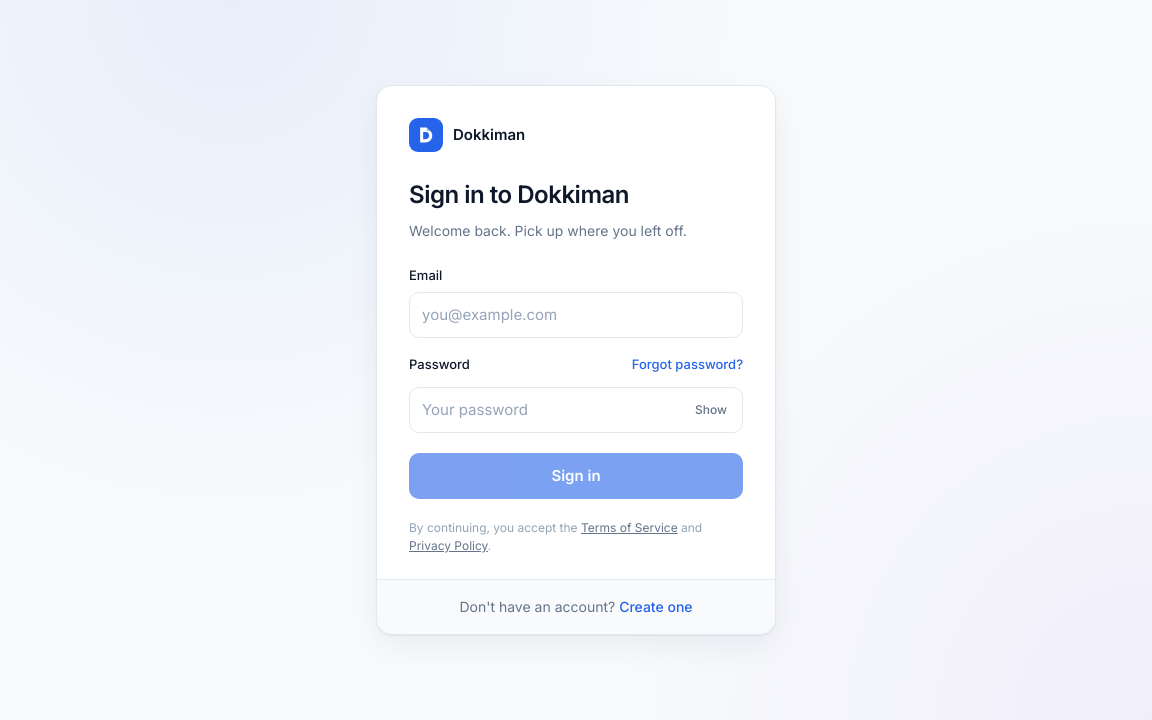
Test: explains when the connection drops while signing in
The width and height of the screenshot is (1152, 720).
In the field labelled "Email": (576, 315) [409,292,743,338], type "me@example.com"
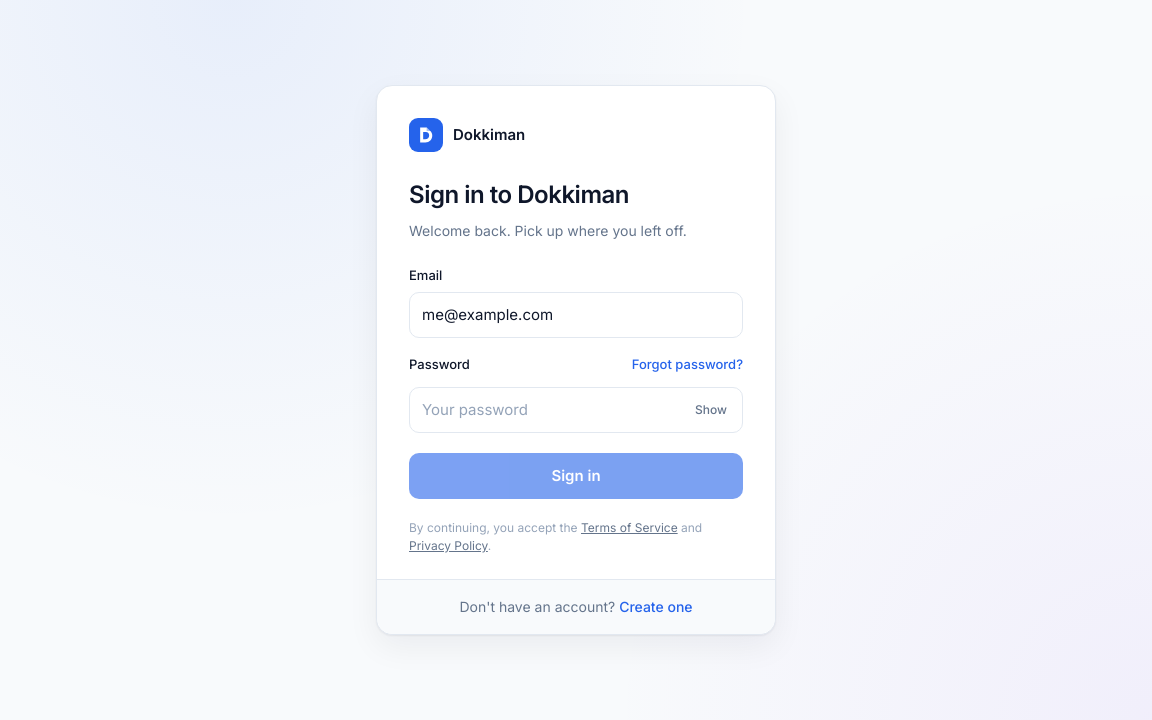
In the password field labelled "Password": (576, 410) [409,387,743,433], type "password-123"
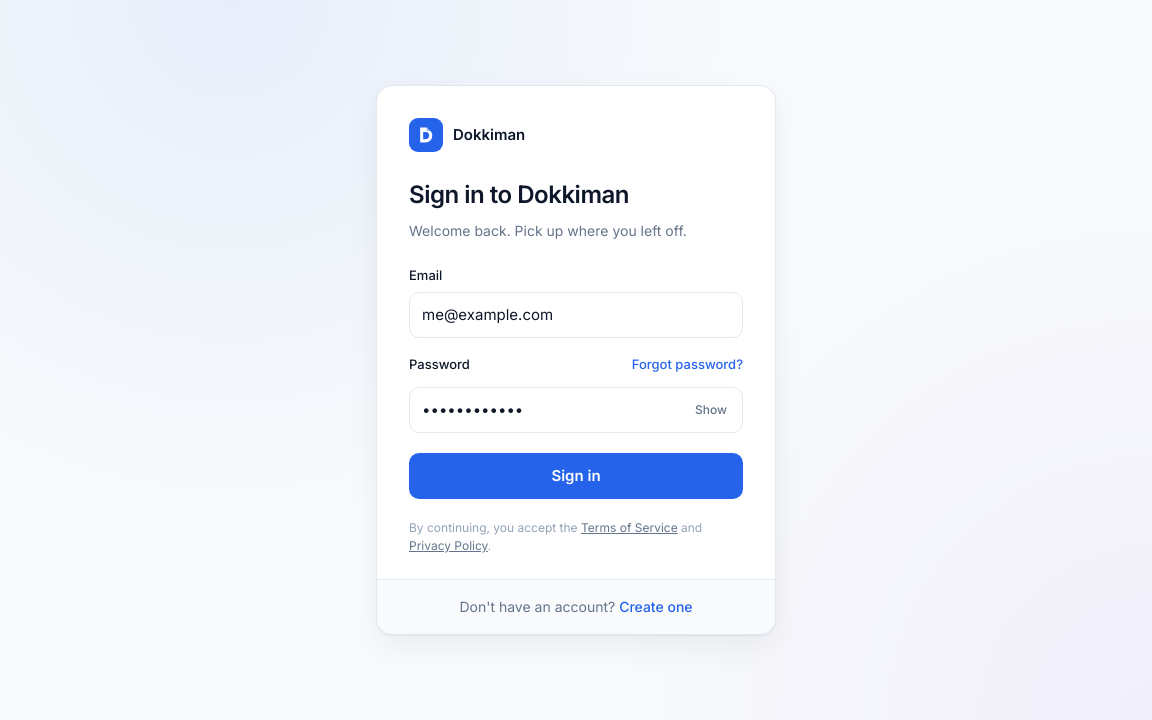
Click the button "Sign in": (576, 476) [409,453,743,499]
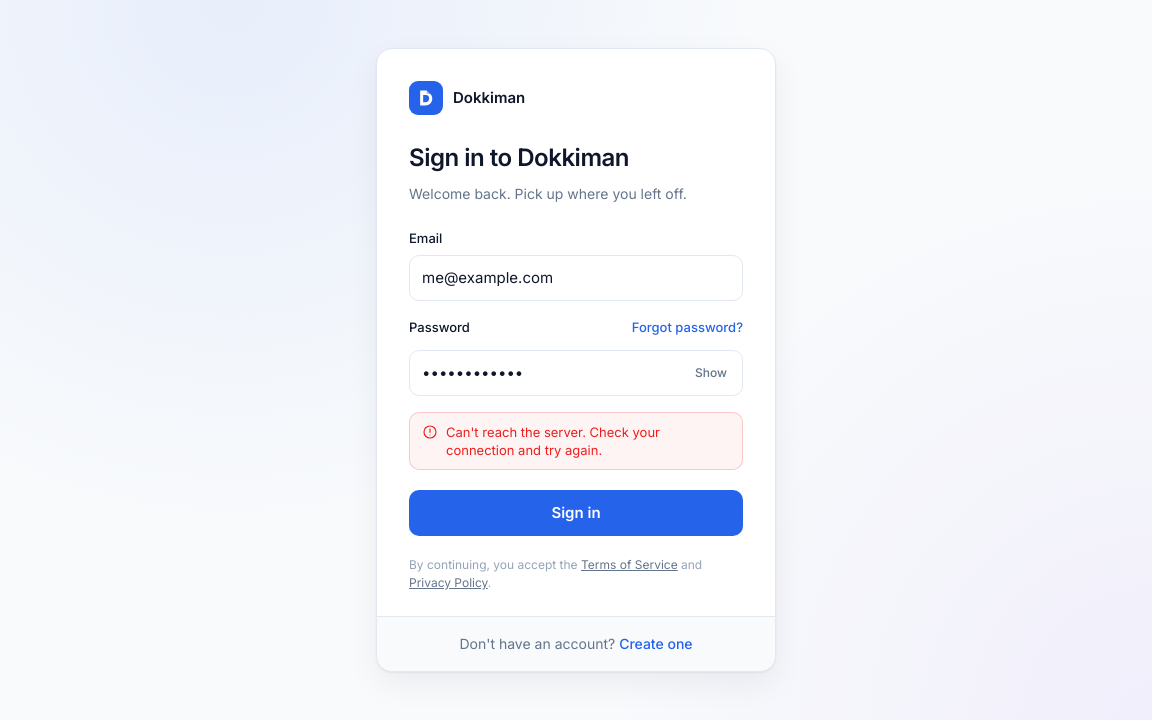
Now the message shows "Can't reach the server", box [446,424,660,458]
